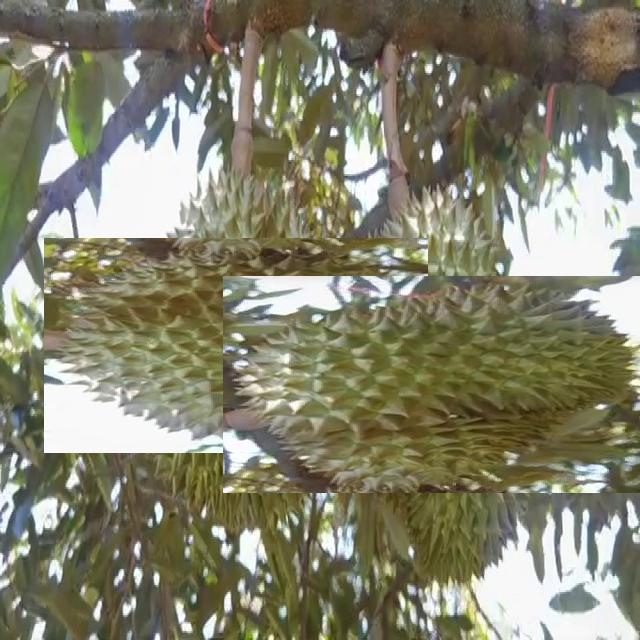durian: (274, 225, 592, 543), (86, 195, 386, 495)
